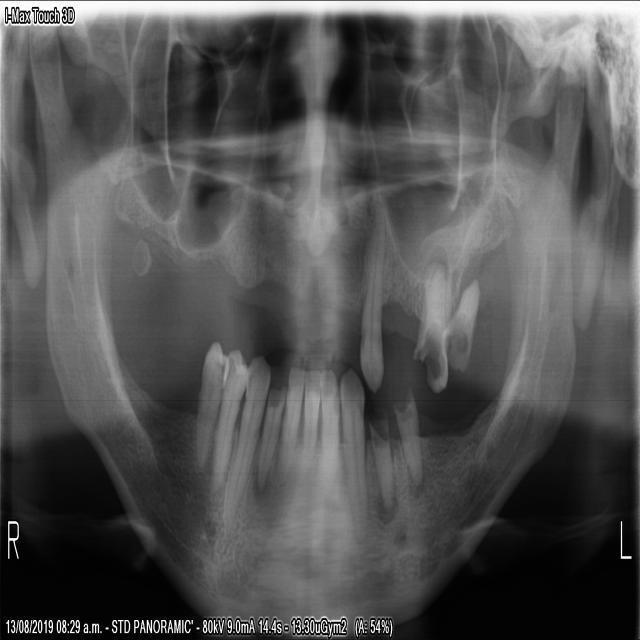LCD: (337, 354, 369, 552)
LCU: (356, 197, 387, 400)
LID: (291, 358, 321, 503), (313, 358, 340, 507)
LMU: (411, 246, 448, 399), (442, 270, 482, 378)
RCD: (220, 346, 273, 533)
RID: (273, 359, 309, 493)
RPMD: (206, 342, 251, 499), (189, 328, 231, 481)
